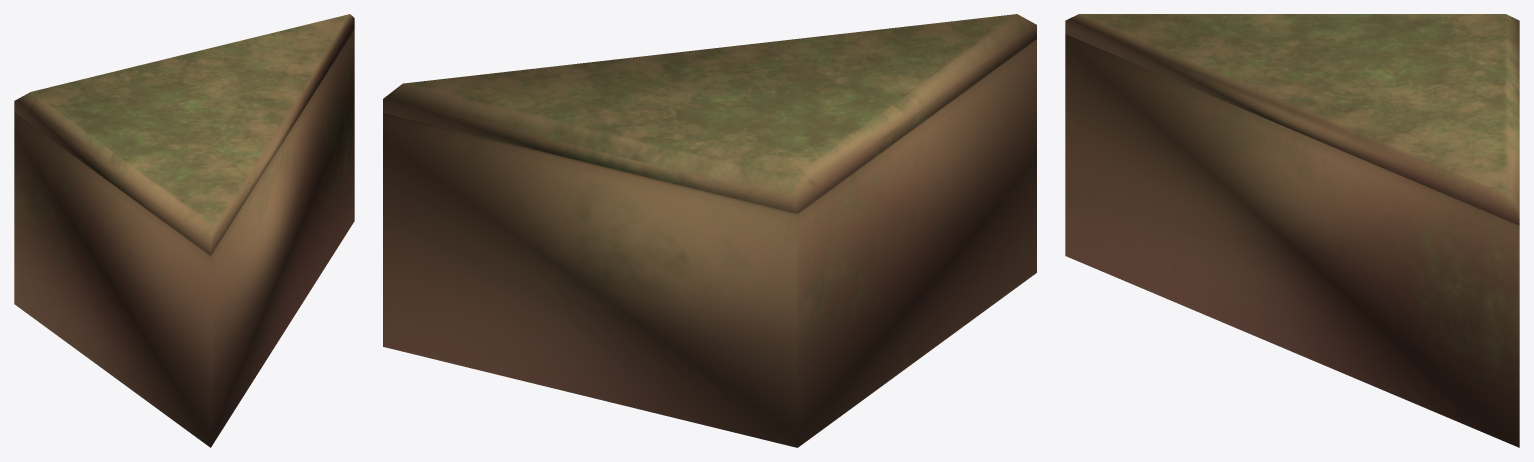
File: Ground05.fbx
The picture shows the model from 3 angles, left to right: view 1: azimuth 30°, elevation 25°; view 2: azimuth 150°, elevation 25°; view 3: azimuth 270°, elevation 25°; orthographic projection. The views are drawn at different scales.
Visible parts, largest first — view 1: Cube.123; view 2: Cube.123; view 3: Cube.123.
Part boxes in pixels (<box>): Cube.123: <box>14,14,354,447</box>; Cube.123: <box>383,14,1036,447</box>; Cube.123: <box>1065,14,1519,447</box>.
Size of the model in its own units: 4 by 2.41 by 4.
